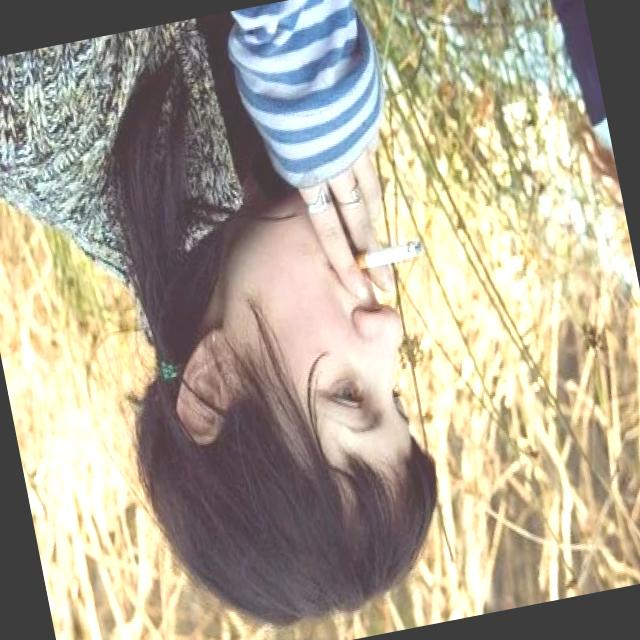smoke: (349, 230, 428, 274)
